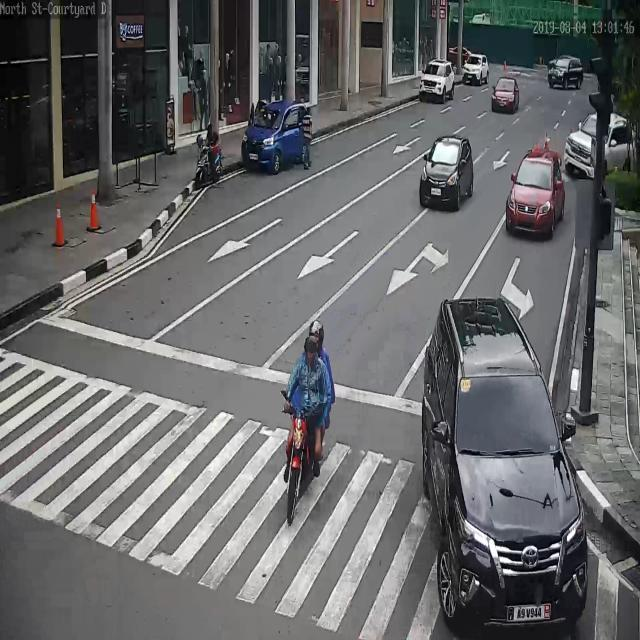car: (420, 296, 589, 640), (506, 147, 566, 238), (242, 99, 313, 175), (565, 112, 635, 182), (419, 133, 475, 212), (419, 59, 455, 104), (547, 56, 583, 92), (491, 75, 520, 113), (461, 52, 490, 84)
jeepney: (283, 319, 335, 525), (193, 120, 222, 192)
